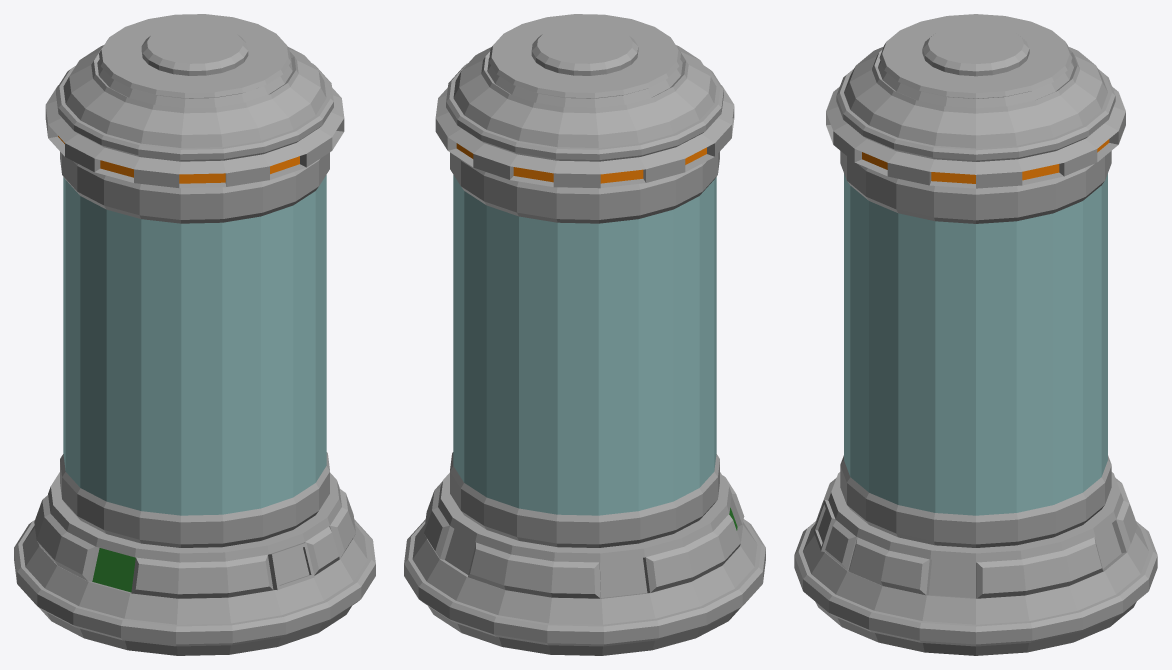
The picture shows the model from 3 angles, left to right: view 1: azimuth 30°, elevation 25°; view 2: azimuth 150°, elevation 25°; view 3: azimuth 270°, elevation 25°; orthographic projection.
Parts seen in each view (by area): view 1: pCylinder26; view 2: pCylinder26; view 3: pCylinder26.
Part boxes in pixels (<box>): pCylinder26: <box>14,14,375,655</box>; pCylinder26: <box>404,14,765,655</box>; pCylinder26: <box>794,14,1157,655</box>.
Size of the model in its own units: 3.33 by 5.47 by 3.33.
